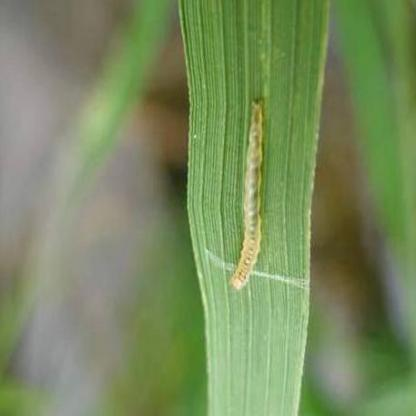leaf-folder: (234, 84, 266, 311)
